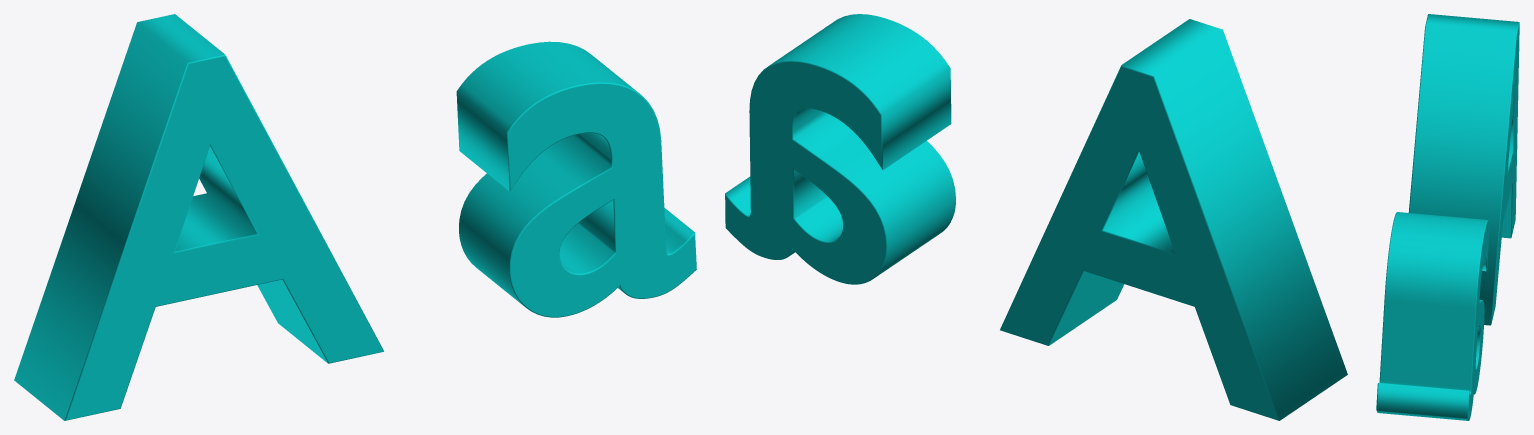
Rendered from ObjectA.fbx.
3 renders of one model, left to right at view 1: azimuth 30°, elevation 25°; view 2: azimuth 150°, elevation 25°; view 3: azimuth 270°, elevation 25°, orthographic. The views are drawn at different scales.
Visible parts, largest first — view 1: Text; view 2: Text; view 3: Text.
Part boxes in pixels (left/top/right/bottom): Text: left=14, top=14, right=696, bottom=420; Text: left=725, top=14, right=1347, bottom=420; Text: left=1376, top=14, right=1519, bottom=420.
Size of the model in its own units: 351 by 182 by 95.31.
